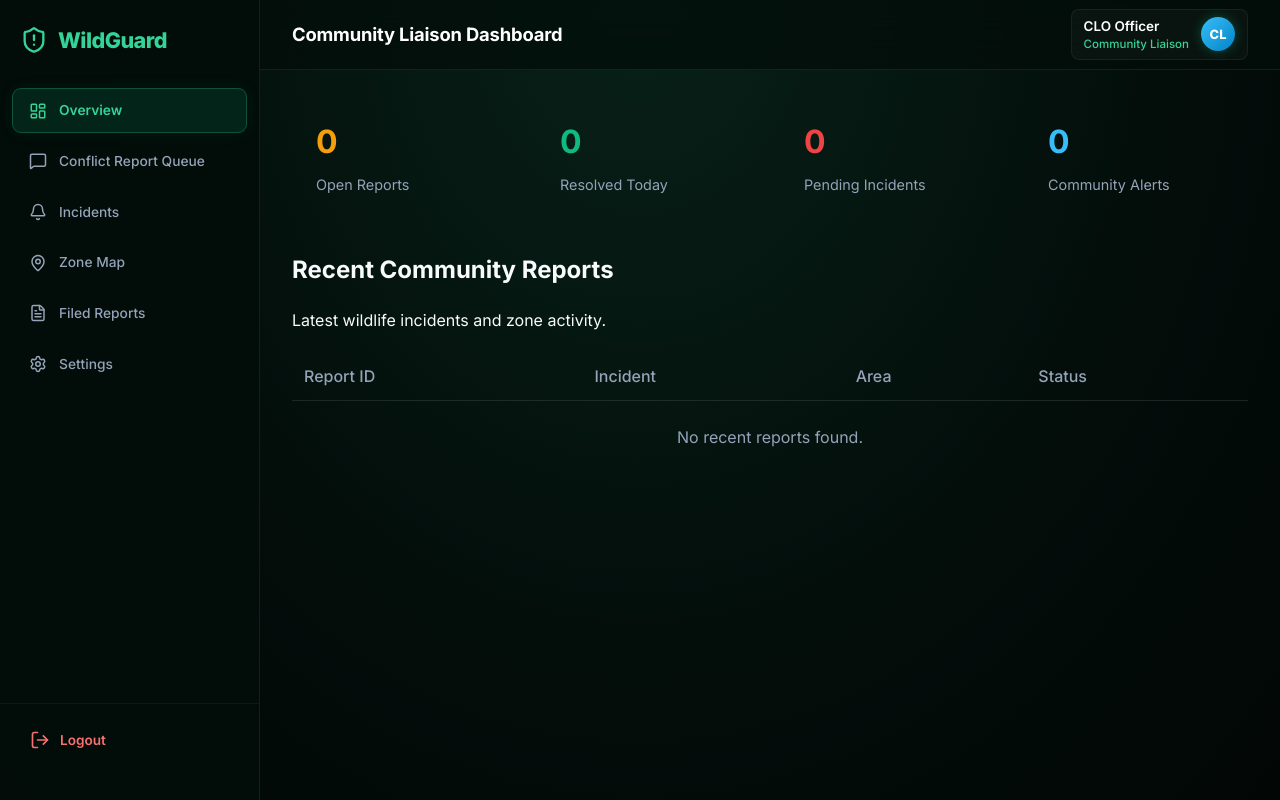
Test: CLODashboard Component › [POSITIVE CASE] should switch tabs when clicking sidebar menu items
Click on Incidents tab
Click the list item "Incidents" at (74, 212), box [29,203,119,221]
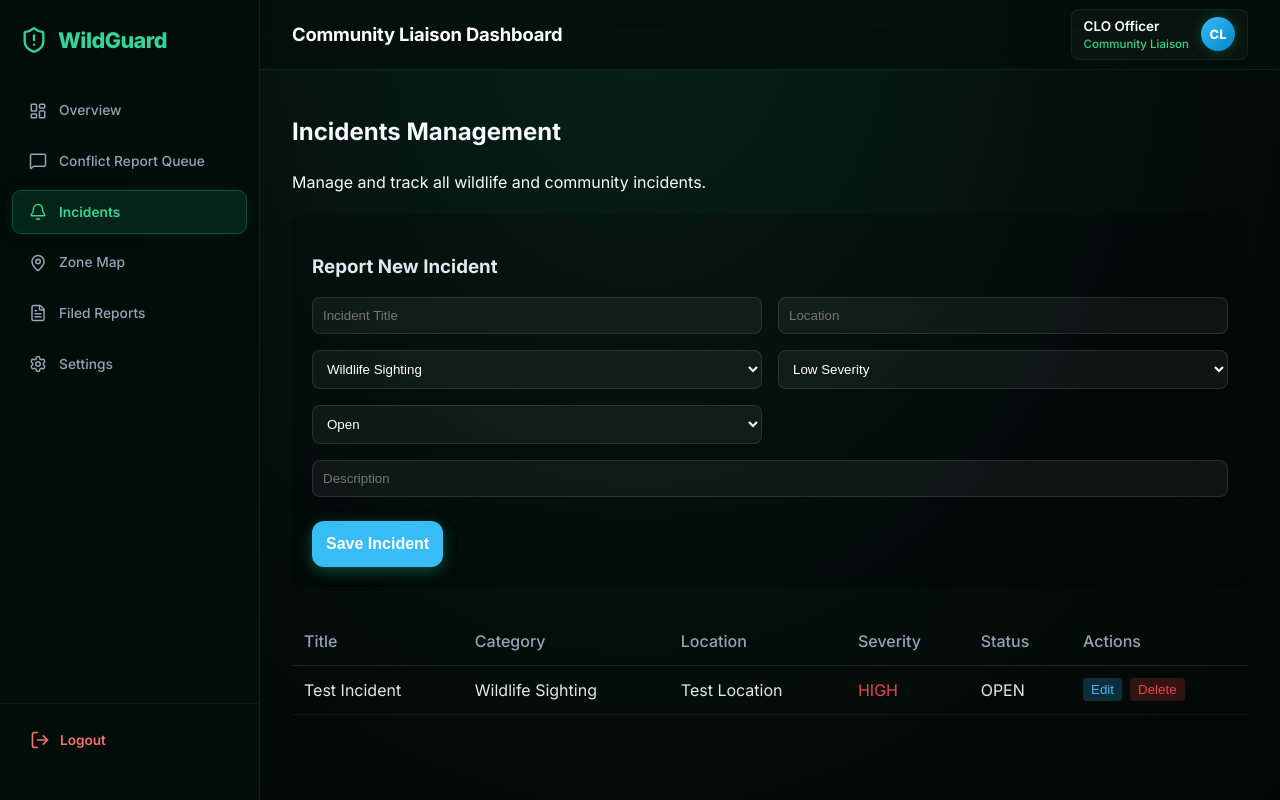
Now the heading "Incidents Management" is shown, box [292,117,561,146]
Now the text "Test Incident" is shown, box [292,665,463,714]
